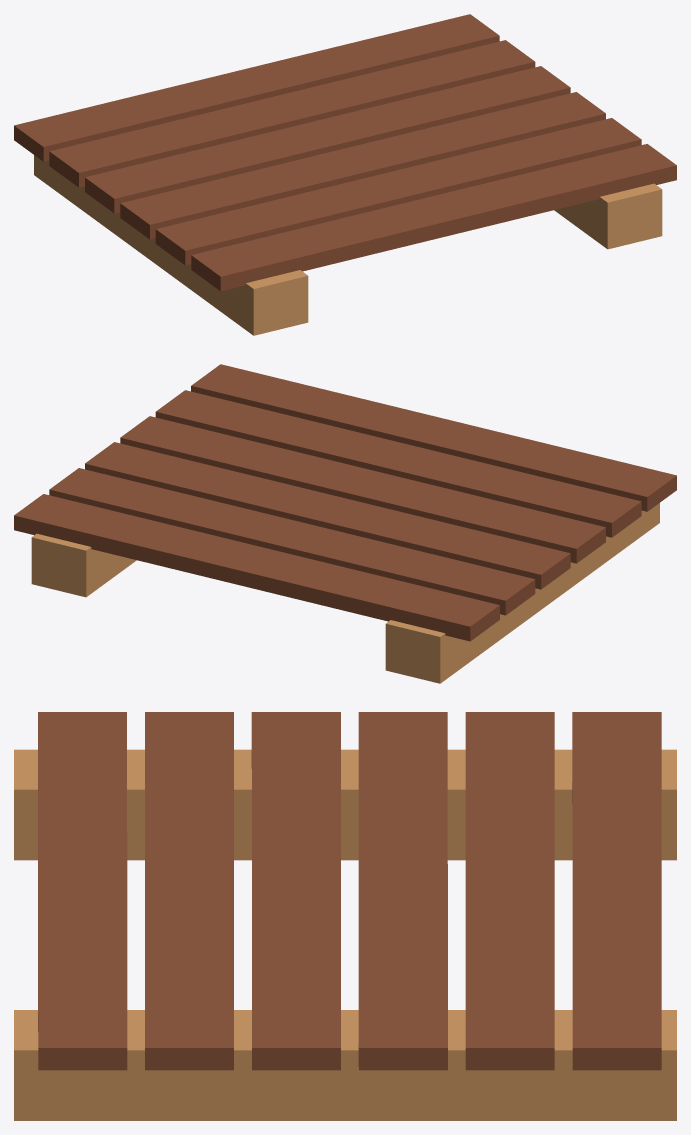
File: poallet.fbx
3 renders of one model, top to bottom at view 1: azimuth 30°, elevation 25°; view 2: azimuth 150°, elevation 25°; view 3: azimuth 270°, elevation 25°, orthographic. The views are drawn at different scales.
Parts seen in each view (by area): view 1: pallet; view 2: pallet; view 3: pallet.
Part boxes in pixels (bbox=[...]): pallet: bbox=[14, 14, 676, 335]; pallet: bbox=[14, 364, 676, 683]; pallet: bbox=[14, 712, 676, 1120].
Size of the model in its own units: 63.63 by 7.92 by 53.09.
